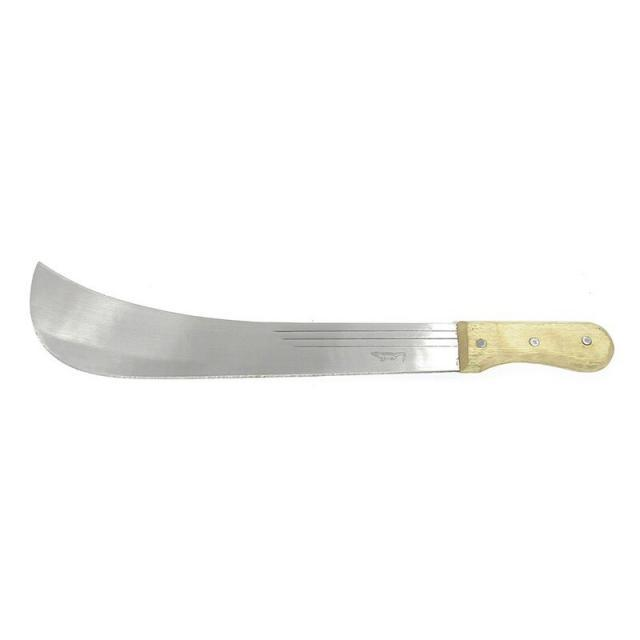machete: (27, 243, 616, 431)
